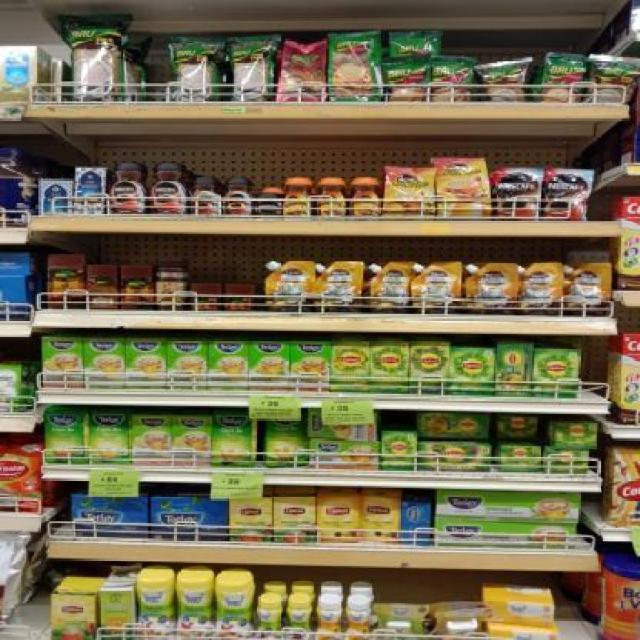Coffee: (437, 158, 490, 216), (386, 169, 435, 218), (543, 170, 590, 219), (494, 168, 538, 220), (110, 162, 148, 213), (151, 161, 187, 214), (350, 178, 382, 216), (316, 178, 348, 216), (191, 178, 222, 214), (285, 178, 314, 216), (223, 178, 252, 214), (255, 193, 280, 214)
